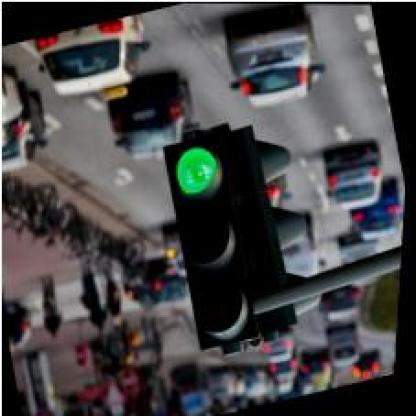green: (146, 127, 276, 353)
